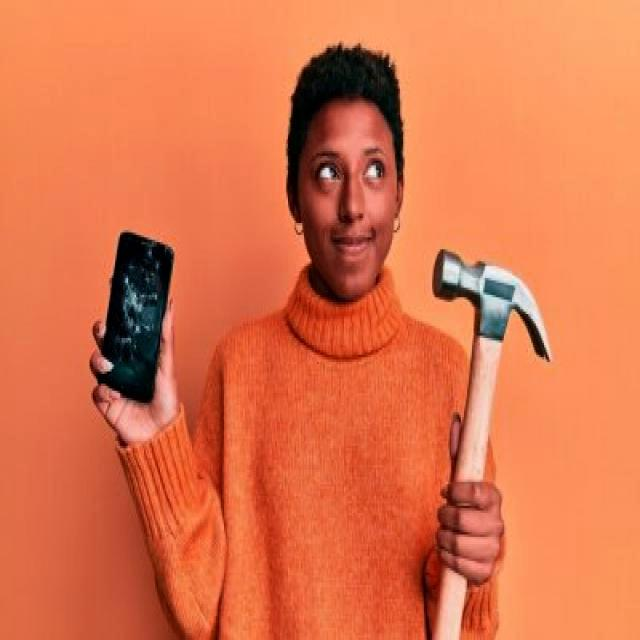hammer: (420, 235, 559, 640)
